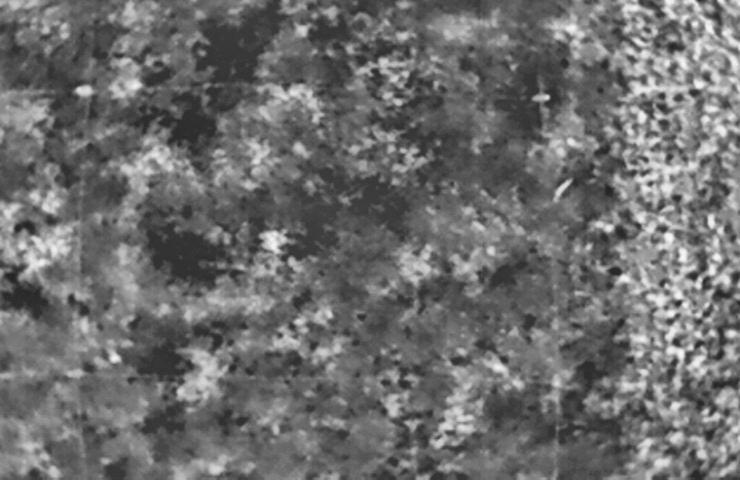landmines: (257, 224, 294, 261)
